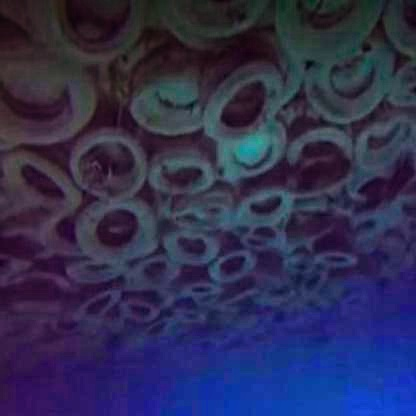tire: (196, 41, 295, 155), (76, 188, 166, 280), (64, 135, 155, 217)
